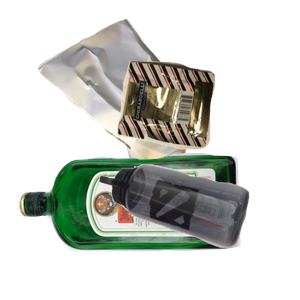glass: (14, 150, 247, 300)
paper: (35, 10, 237, 178)
plastic: (97, 162, 300, 300)
trash: (115, 58, 300, 200)
